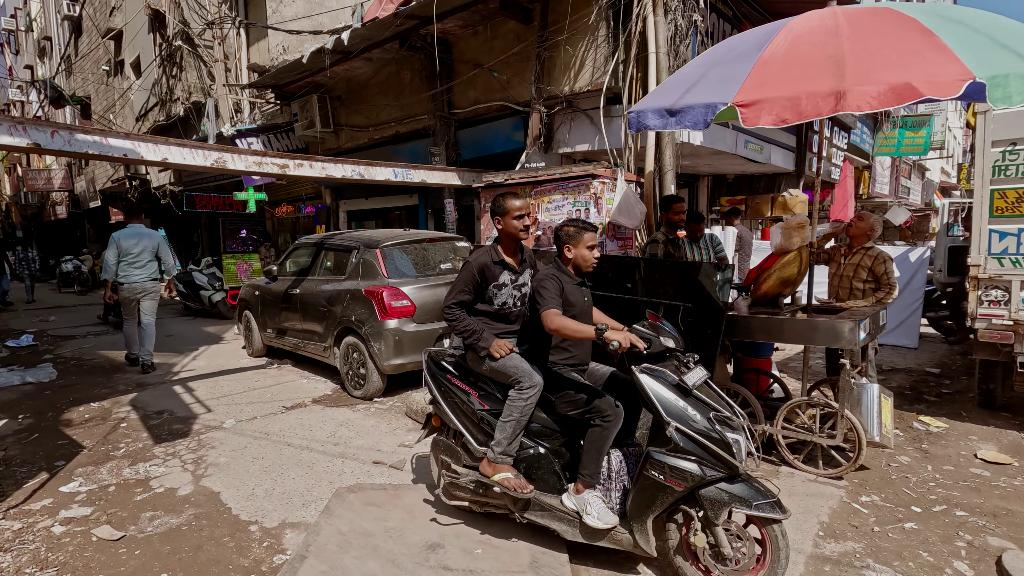garbage: (0, 359, 59, 390)
